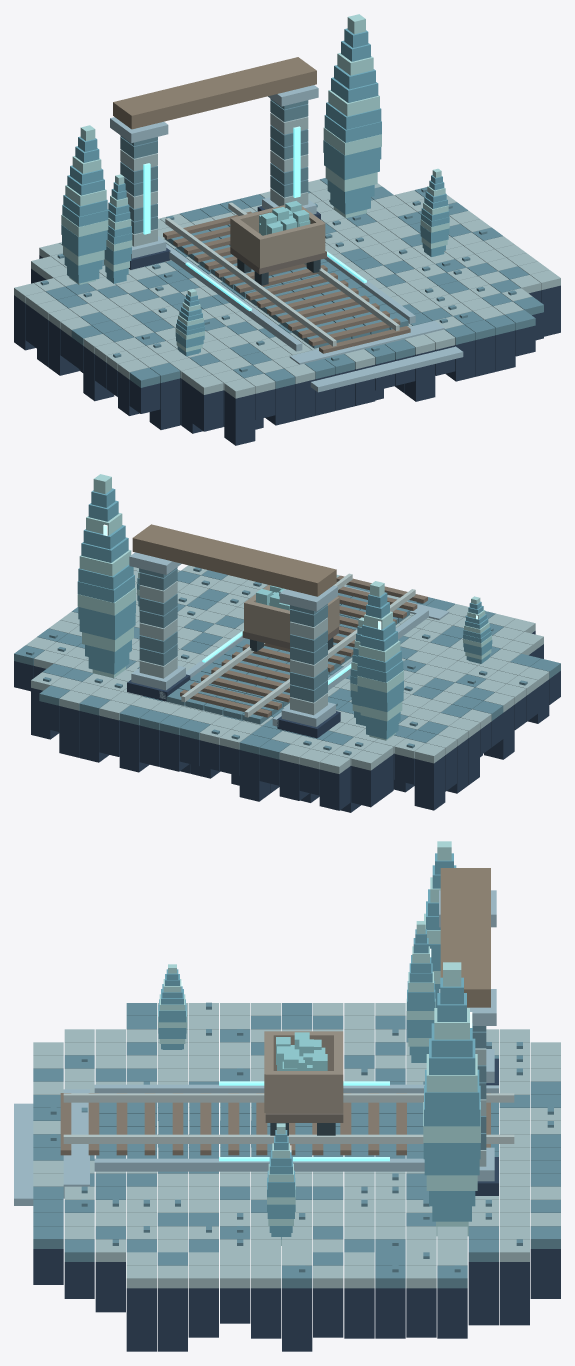
File: preview-frost.glb
3 views of the same model, one above another, from view 1: azimuth 30°, elevation 25°; view 2: azimuth 150°, elevation 25°; view 3: azimuth 270°, elevation 25° (orthographic). The views are drawn at different scales.
Parts seen in each view (by area): view 1: Terrain, Crystal_Facets, Floating_Bedrock, Track_Sleepers, Carved_Pillars, Mine_Beam, Minecart, Causeway, Front_Stairs, Steel_Rails, Causeway_Edge, Pillar_Capitals (+4 smaller); view 2: Terrain, Floating_Bedrock, Crystal_Facets, Carved_Pillars, Mine_Beam, Track_Sleepers, Causeway, Minecart, Pillar_Plinths, Steel_Rails, Pillar_Capitals, Causeway_Edge (+1 smaller); view 3: Terrain, Floating_Bedrock, Crystal_Facets, Causeway, Minecart, Steel_Rails, Track_Sleepers, Causeway_Edge, Mine_Beam, Front_Stairs, Surface_Chips, Pillar_Plinths (+3 smaller).
Boxes of the visible parts, bbox=[...] form: Terrain: bbox=[14, 178, 560, 398]; Crystal_Facets: bbox=[61, 14, 449, 356]; Floating_Bedrock: bbox=[14, 255, 560, 445]; Track_Sleepers: bbox=[163, 211, 410, 353]; Carved_Pillars: bbox=[120, 98, 308, 246]; Mine_Beam: bbox=[113, 57, 316, 129]; Minecart: bbox=[230, 201, 326, 285]; Causeway: bbox=[164, 211, 408, 348]; Front_Stairs: bbox=[289, 320, 463, 392]; Steel_Rails: bbox=[165, 202, 399, 346]; Causeway_Edge: bbox=[166, 244, 415, 351]; Pillar_Capitals: bbox=[110, 85, 318, 143]; Terrain: bbox=[14, 565, 560, 773]; Floating_Bedrock: bbox=[14, 631, 560, 812]; Crystal_Facets: bbox=[77, 474, 492, 740]; Carved_Pillars: bbox=[139, 567, 327, 715]; Mine_Beam: bbox=[132, 524, 336, 596]; Track_Sleepers: bbox=[180, 575, 427, 717]; Causeway: bbox=[166, 593, 409, 724]; Minecart: bbox=[242, 585, 339, 651]; Pillar_Plinths: bbox=[127, 665, 340, 738]; Steel_Rails: bbox=[181, 573, 415, 717]; Pillar_Capitals: bbox=[129, 552, 337, 611]; Causeway_Edge: bbox=[159, 608, 428, 726]; Terrain: bbox=[33, 1003, 560, 1288]; Floating_Bedrock: bbox=[33, 1249, 560, 1351]; Crystal_Facets: bbox=[158, 841, 480, 1245]; Causeway: bbox=[96, 1102, 498, 1158]; Minecart: bbox=[264, 1031, 343, 1135]; Steel_Rails: bbox=[63, 1093, 514, 1143]; Track_Sleepers: bbox=[60, 1093, 490, 1155]; Causeway_Edge: bbox=[94, 1084, 498, 1171]; Mine_Beam: bbox=[440, 868, 490, 1007]; Front_Stairs: bbox=[14, 1089, 89, 1205]; Surface_Chips: bbox=[50, 1002, 553, 1272]; Pillar_Plinths: bbox=[475, 1049, 498, 1195].
Size of the model in its own units: 8.39 by 4.7 by 7.04.
